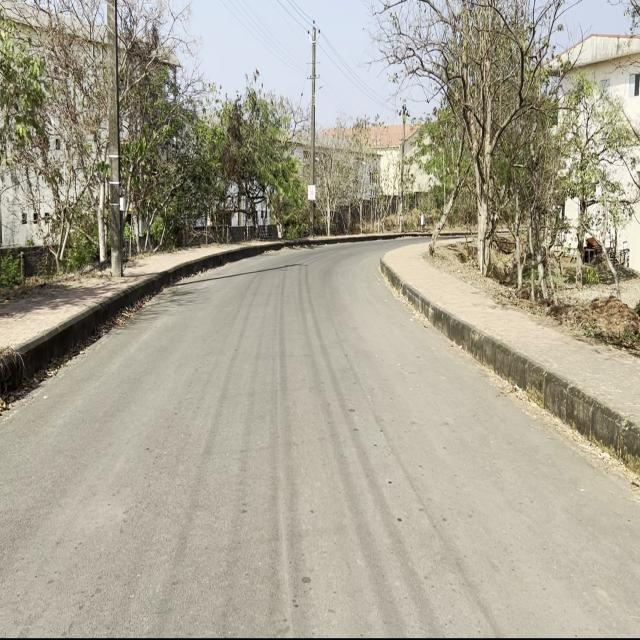Road: (3, 240, 638, 635)
